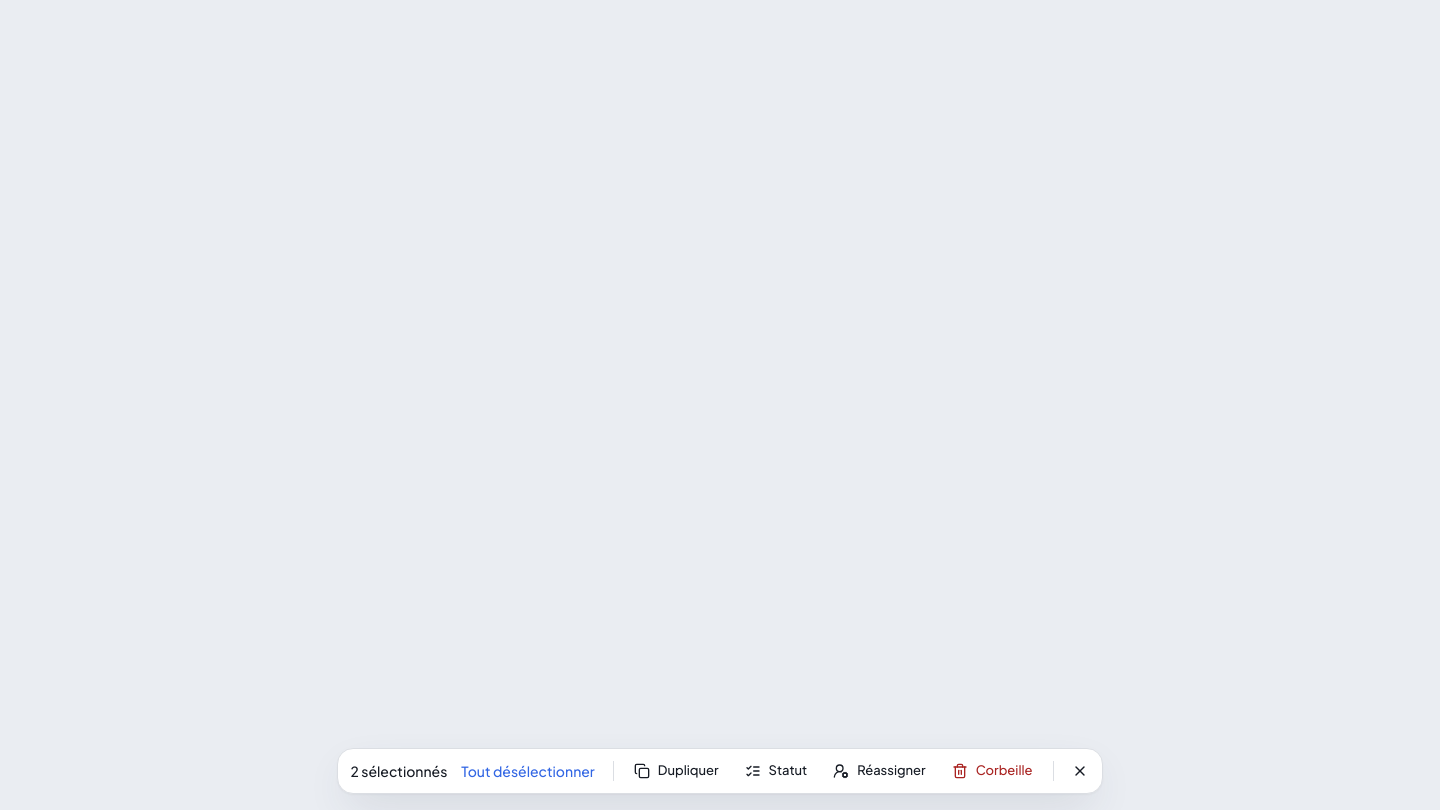
Test case: BulkActionBar › duplique chaque post sélectionné et affiche le récap
Click the button "Dupliquer".
click(676, 771)  # box [624,755,729,787]
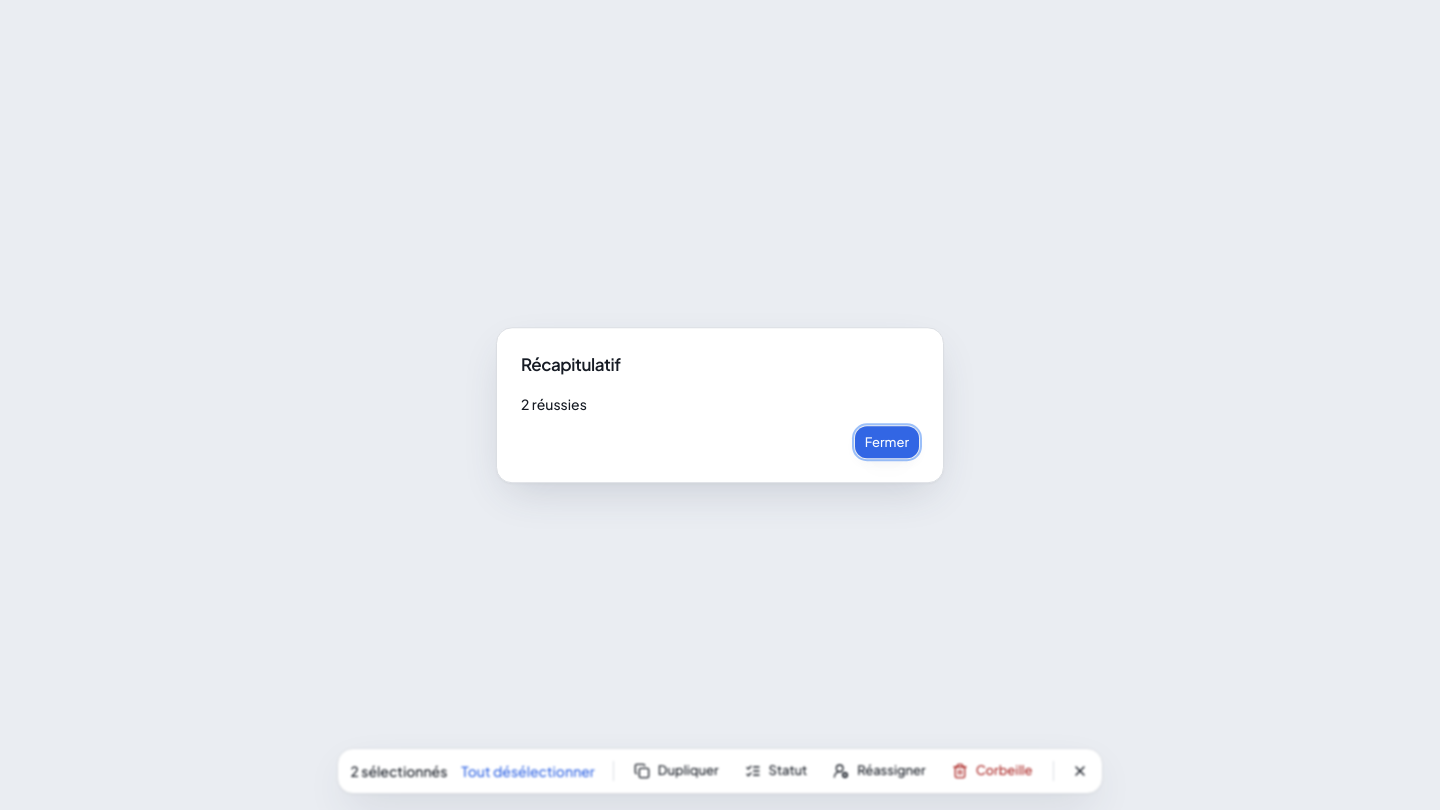
Check: the text "2 réussies" is shown, box [521,395,587,413]
